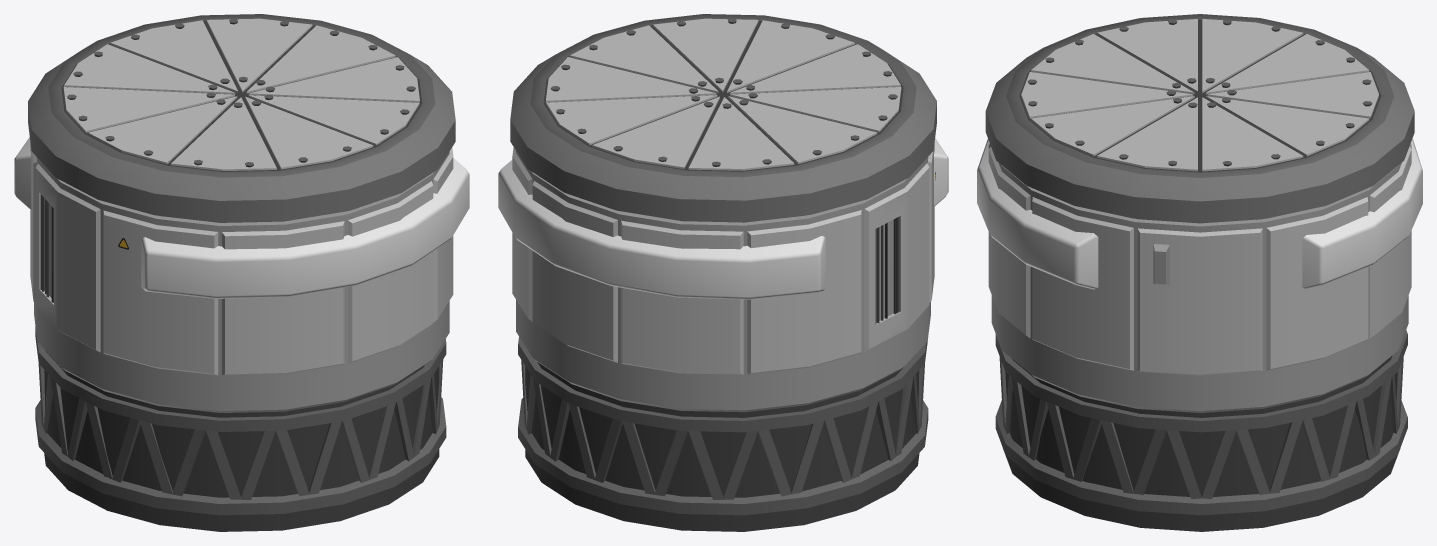
The model's file is space_station_012.fbx.
3 views of the same model, side by side, from view 1: azimuth 30°, elevation 25°; view 2: azimuth 150°, elevation 25°; view 3: azimuth 270°, elevation 25° (orthographic).
Visible parts, largest first — view 1: space_station_012; view 2: space_station_012; view 3: space_station_012.
Boxes of the visible parts, x1,y1,x2,y2 form: space_station_012: [14, 14, 469, 531]; space_station_012: [498, 14, 948, 531]; space_station_012: [977, 14, 1422, 531].
Bounding box in the file's own units: 995 × 1033 × 910.
